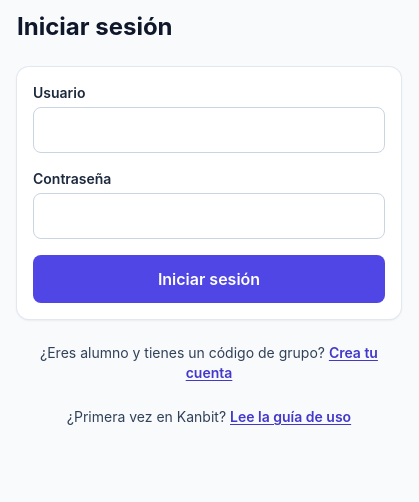
Test: LoginPage › shows a Spanish message for invalid credentials
The width and height of the screenshot is (419, 502).
In the field labelled "Usuario": (209, 130) [33, 107, 385, 153], type "ana"
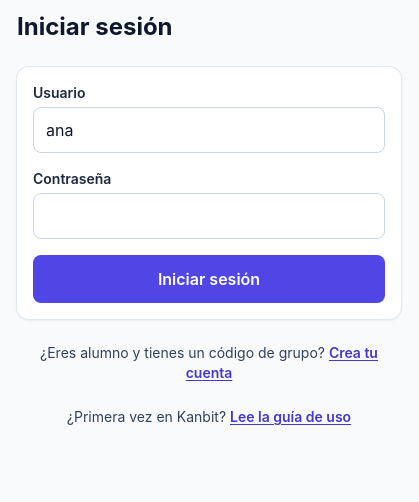
In the password field labelled "Contraseña": (209, 216) [33, 193, 385, 239], type "equivocada"
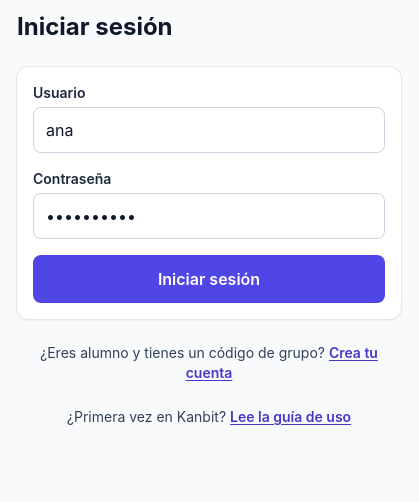
Click the button "Iniciar sesión": (209, 279) [33, 255, 385, 303]
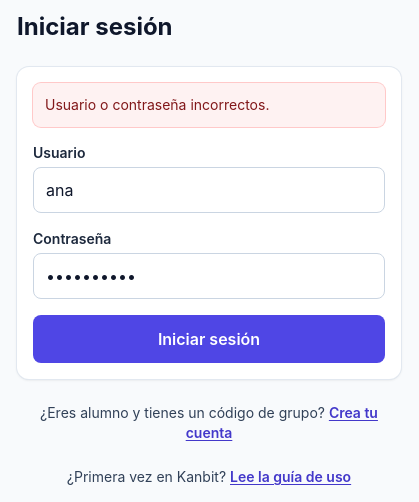
Now the message reads "Usuario o contraseña incorrectos.", box [45, 96, 269, 113]
